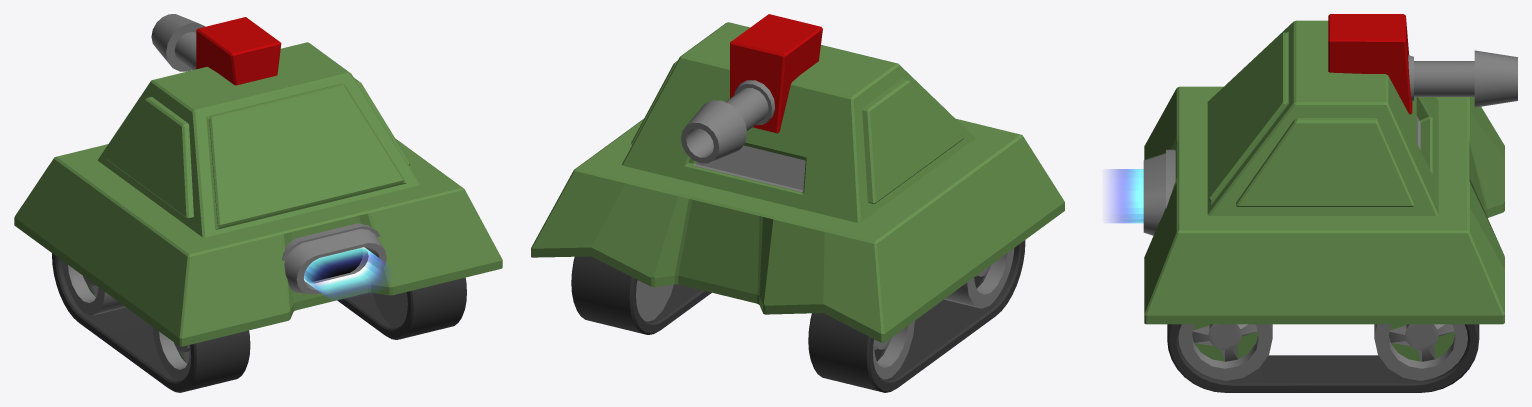
The model's file is tank-02.glb.
The picture shows the model from 3 angles, left to right: view 1: azimuth 30°, elevation 25°; view 2: azimuth 150°, elevation 25°; view 3: azimuth 270°, elevation 25°; orthographic projection. The views are drawn at different scales.
Visible parts, largest first — view 1: Body, Tracks-R, Cylinder, Tracks-L, boost-fire, Weapon-Cannon, Wheel-FL, Wheel-BL, Wheel-FR; view 2: Body, Tracks-R, Tracks-L, Weapon-Cannon, Wheel-BL, Wheel-FL, Wheel-BR; view 3: Body, Tracks-L, Weapon-Cannon, Wheel-FR, Wheel-BR, Cylinder, boost-fire.
Boxes of the visible parts, x1,y1,x2,y2 form: Body: (14, 17, 502, 346); Tracks-R: (52, 253, 250, 392); Cylinder: (281, 223, 386, 294); Tracks-L: (337, 277, 466, 339); boost-fire: (304, 247, 389, 298); Weapon-Cannon: (151, 14, 205, 71); Wheel-FL: (62, 260, 125, 315); Wheel-BL: (152, 327, 191, 380); Wheel-FR: (373, 292, 407, 327); Body: (531, 14, 1064, 342); Tracks-R: (808, 240, 1025, 392); Tracks-L: (571, 256, 711, 334); Weapon-Cannon: (681, 80, 775, 163); Wheel-BL: (944, 248, 1014, 308); Wheel-FL: (873, 321, 914, 379); Wheel-BR: (636, 280, 673, 321); Body: (1144, 14, 1504, 324); Tracks-L: (1167, 324, 1479, 392); Weapon-Cannon: (1408, 50, 1517, 107); Wheel-FR: (1178, 324, 1272, 380); Wheel-BR: (1374, 324, 1467, 380); Cylinder: (1143, 149, 1175, 235); boost-fire: (1106, 169, 1143, 223).
Bounding box in the file's own units: 4.15 × 3.36 × 4.38.
7 materials, 1 textured.
